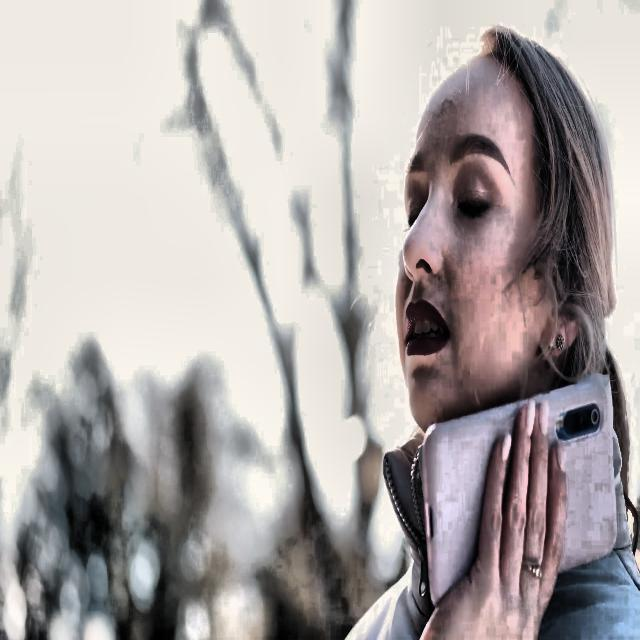Phone: (418, 371, 618, 608)
